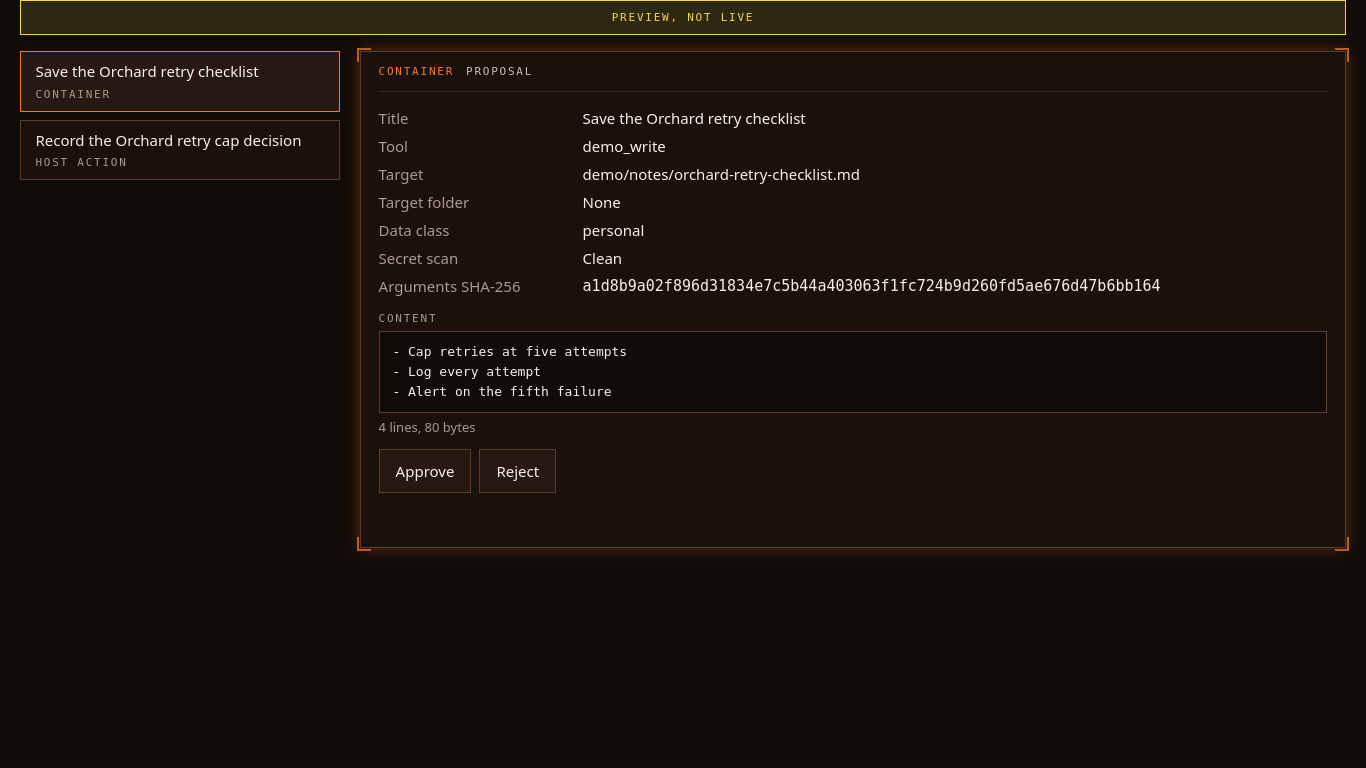
Open confirm page shows Preview: nothing was executed
The width and height of the screenshot is (1366, 768).
Click the button "Record the Orchard retry cap decision Host action" at {"x": 180, "y": 150}, box 20,120 -> 340,180
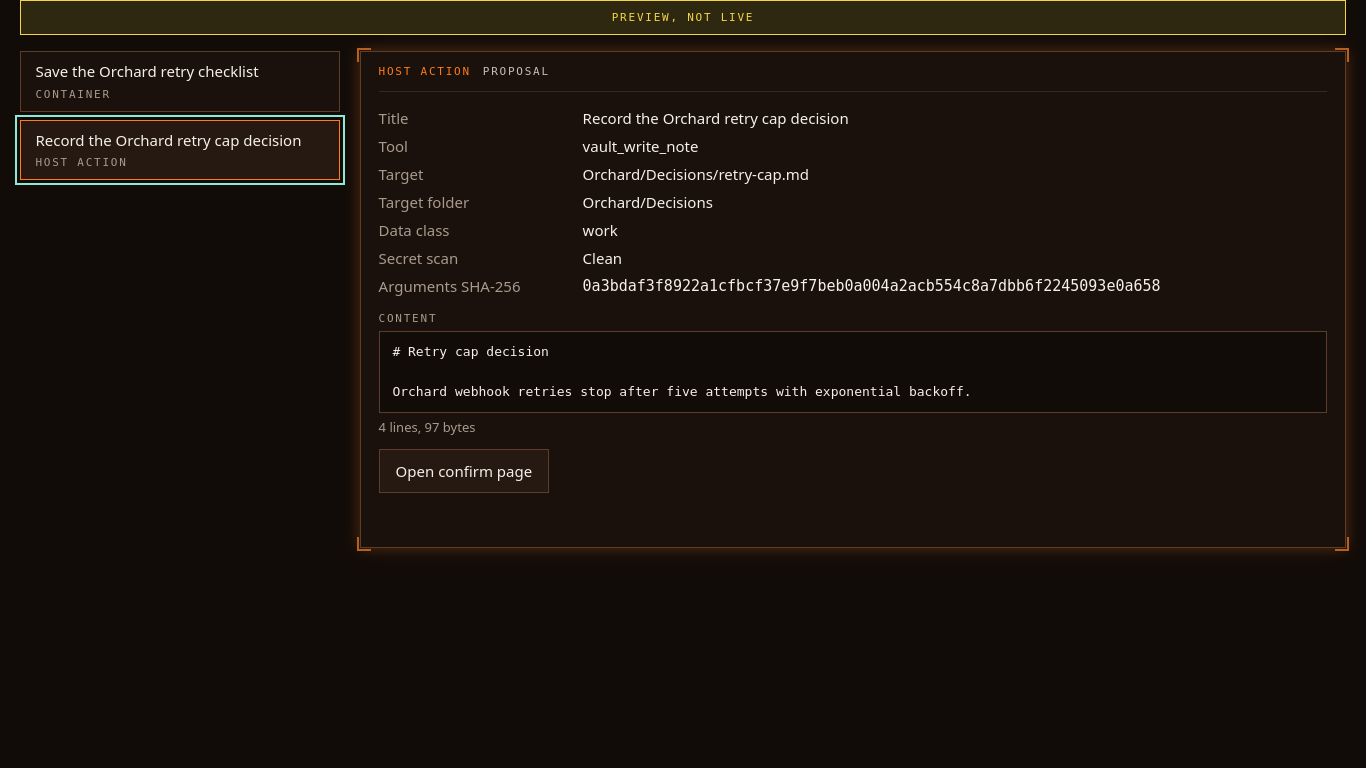
Click the button "Open confirm page" at {"x": 464, "y": 471}, box 379,449 -> 549,493
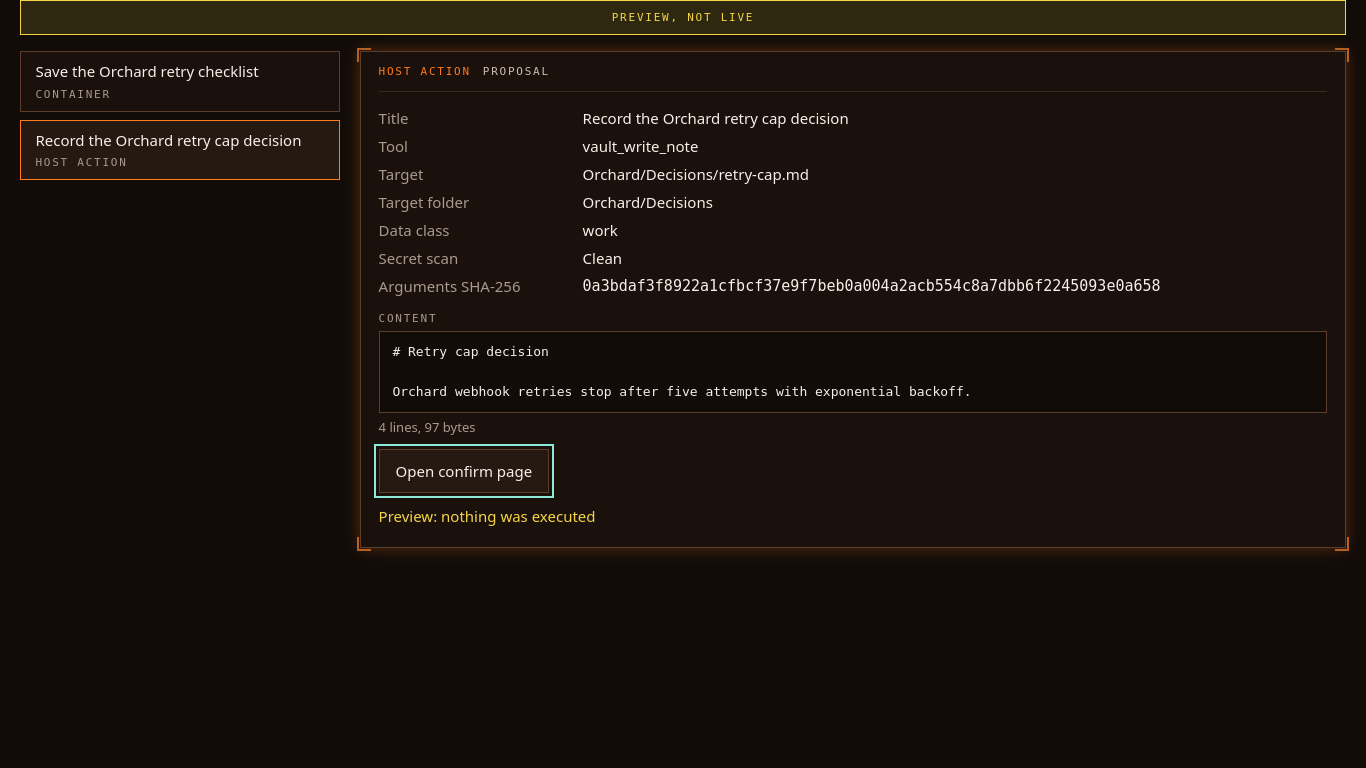
Expected: the message reads "Preview: nothing was executed", 379,506 -> 596,526
